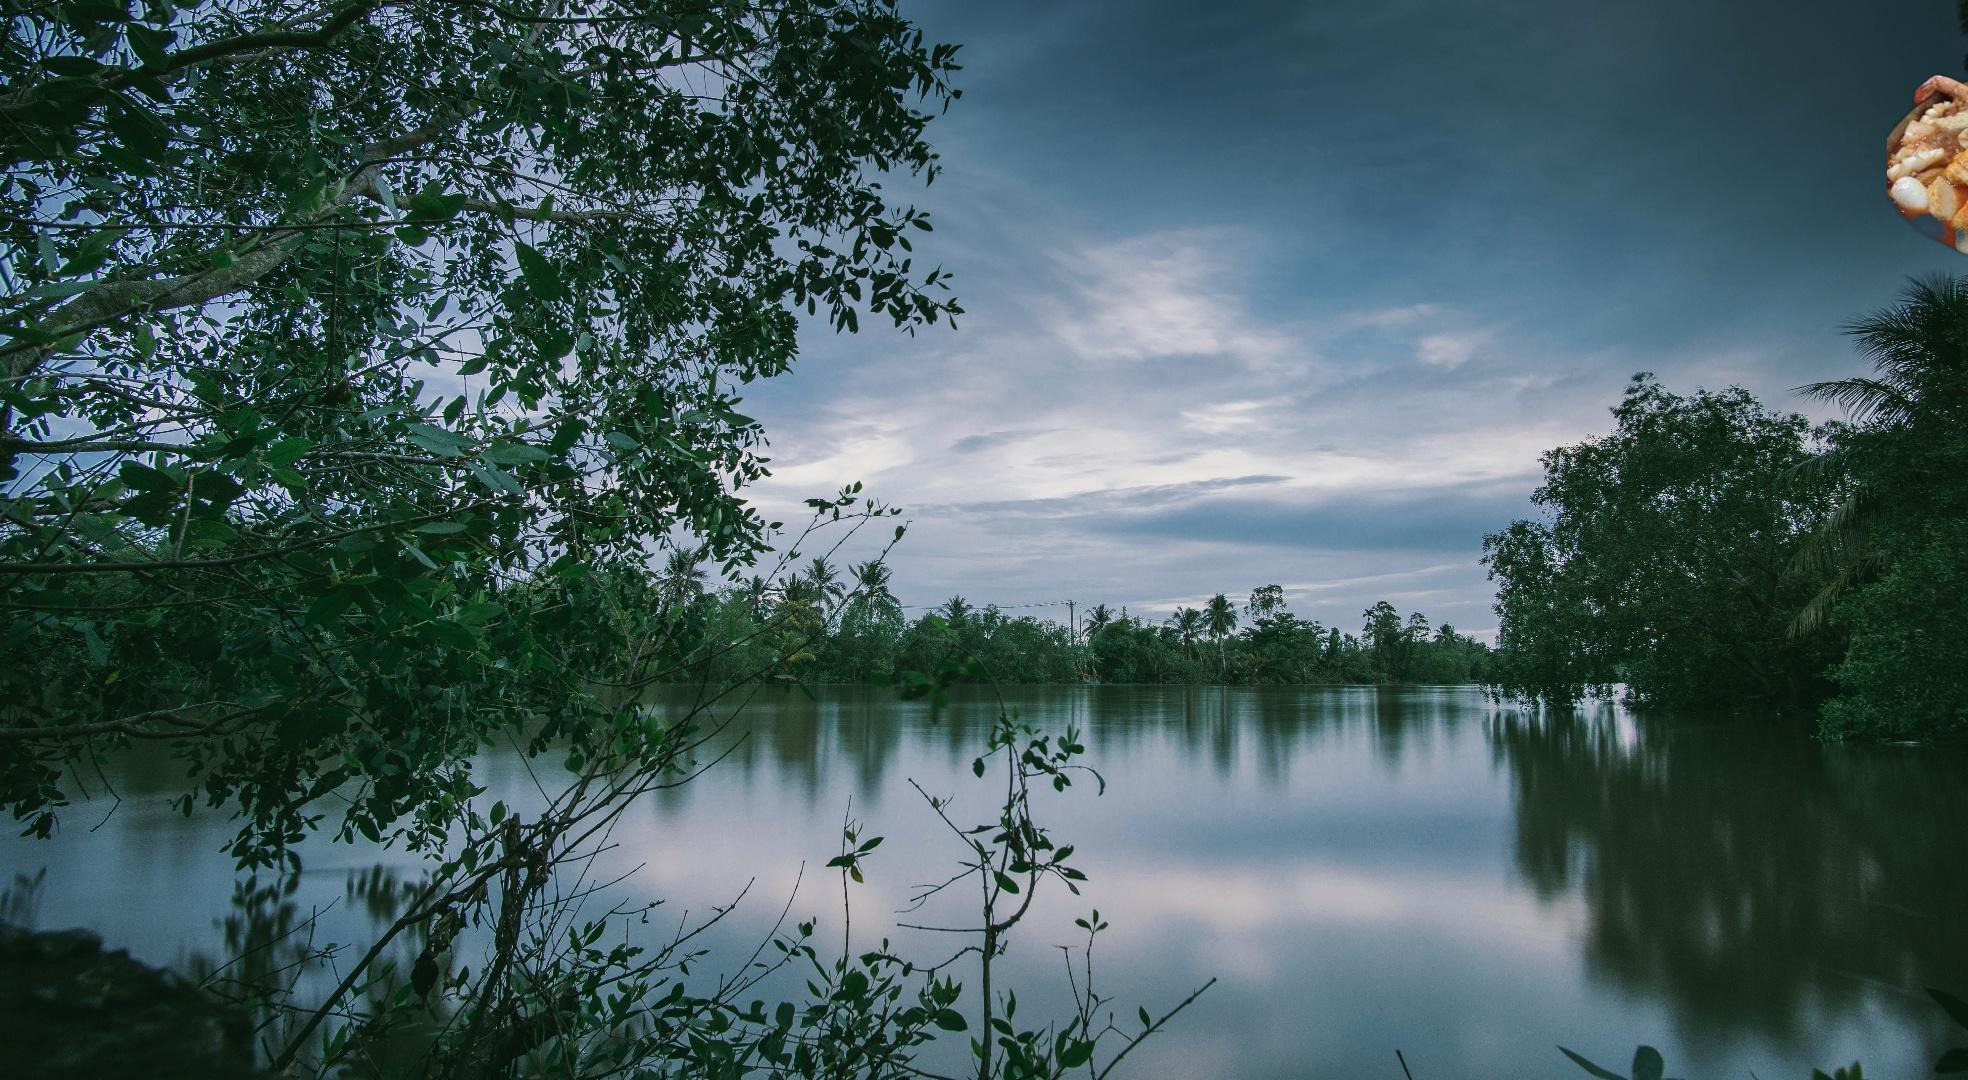biological: (1887, 55, 1968, 282)
